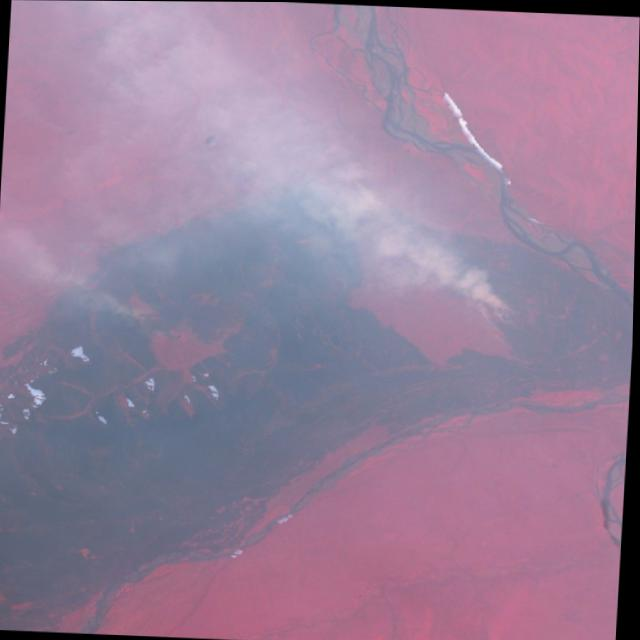fire: (349, 191, 555, 333), (67, 232, 200, 341), (60, 125, 85, 138)
